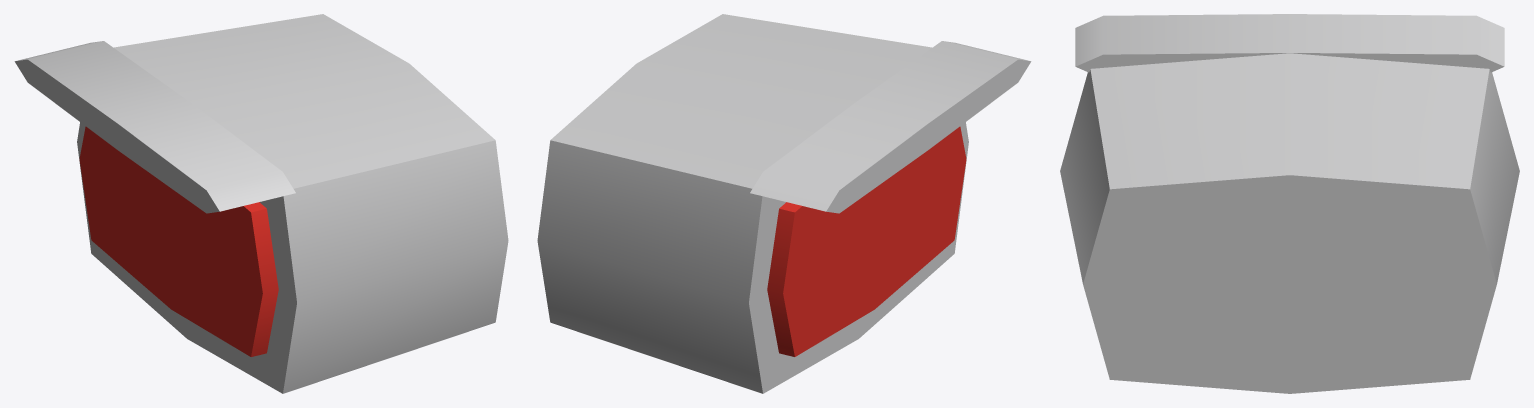
The model's file is lucas_lod1.glb.
3 views of the same model, side by side, from view 1: azimuth 30°, elevation 25°; view 2: azimuth 150°, elevation 25°; view 3: azimuth 270°, elevation 25° (orthographic). The views are drawn at different scales.
Parts seen in each view (by area): view 1: lucas_lod1; view 2: lucas_lod1; view 3: lucas_lod1.
Boxes of the visible parts, x1,y1,x2,y2 form: lucas_lod1: (14, 14, 508, 393); lucas_lod1: (537, 14, 1031, 393); lucas_lod1: (1060, 14, 1519, 393).
Bounding box in the file's own units: 0.092 × 0.07 × 0.12.
